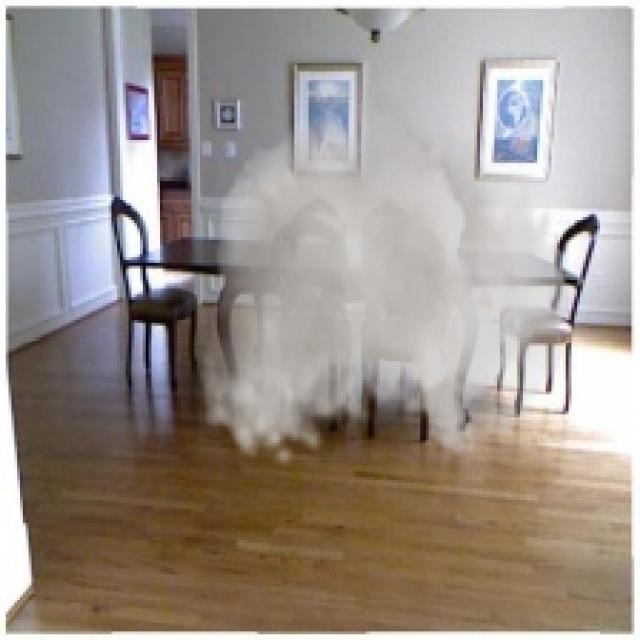smoke: (200, 66, 569, 471)
